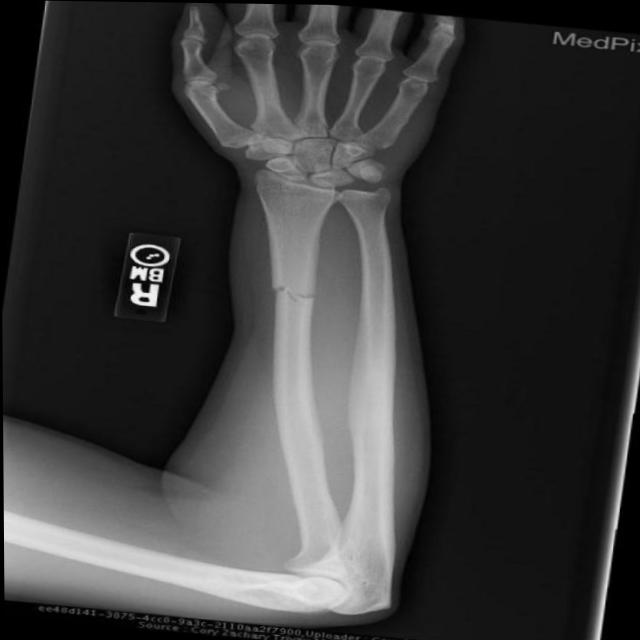Transverse Displaced: (244, 272, 337, 317)
